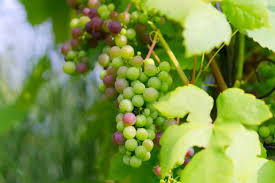Green grapes: (114, 51, 169, 171)
